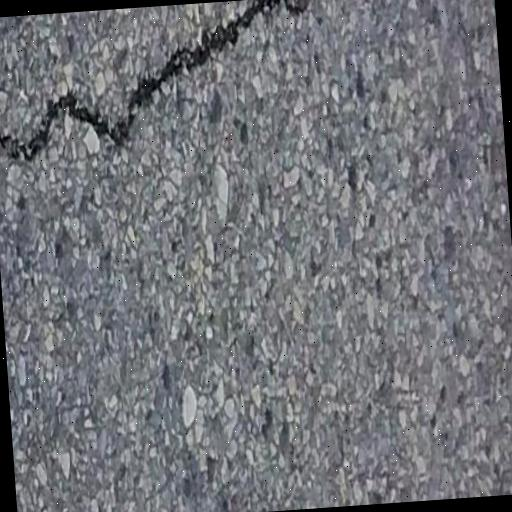spalling: (0, 0, 328, 181)
